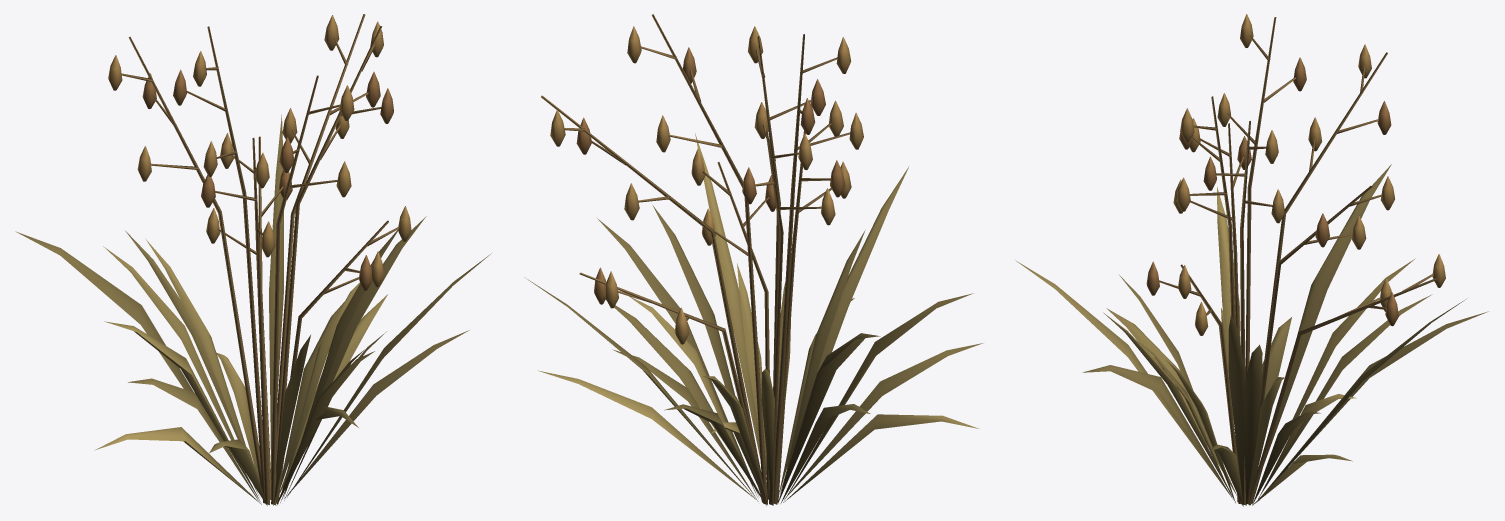
The model's file is meadow-forms.glb.
The picture shows the model from 3 angles, left to right: view 1: azimuth 30°, elevation 25°; view 2: azimuth 150°, elevation 25°; view 3: azimuth 270°, elevation 25°; orthographic projection. The views are drawn at different scales.
Visible parts, largest first — view 1: copper-rush-1 / close; view 2: copper-rush-1 / close; view 3: copper-rush-1 / close.
Part boxes in pixels (x1,y1,x2,y2): copper-rush-1 / close: (15,14,491,505); copper-rush-1 / close: (524,14,983,505); copper-rush-1 / close: (1015,14,1488,506).
Bounding box in the file's own units: 0.6836 × 0.836 × 0.781.
